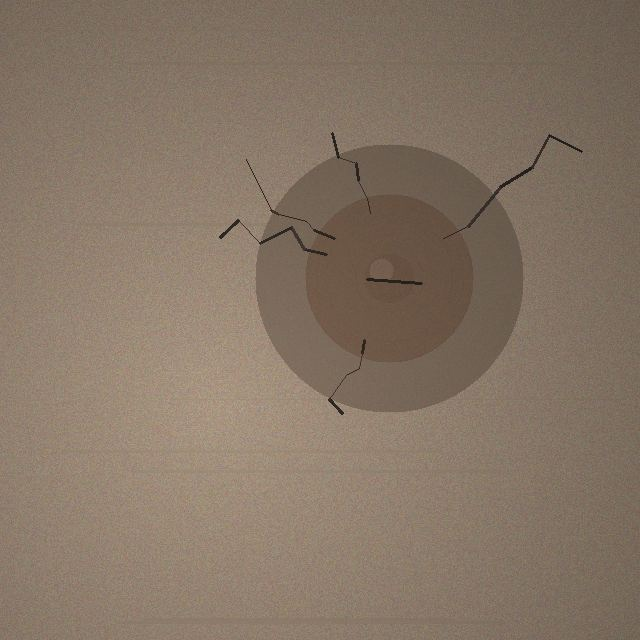crack: (255, 144, 523, 412)
